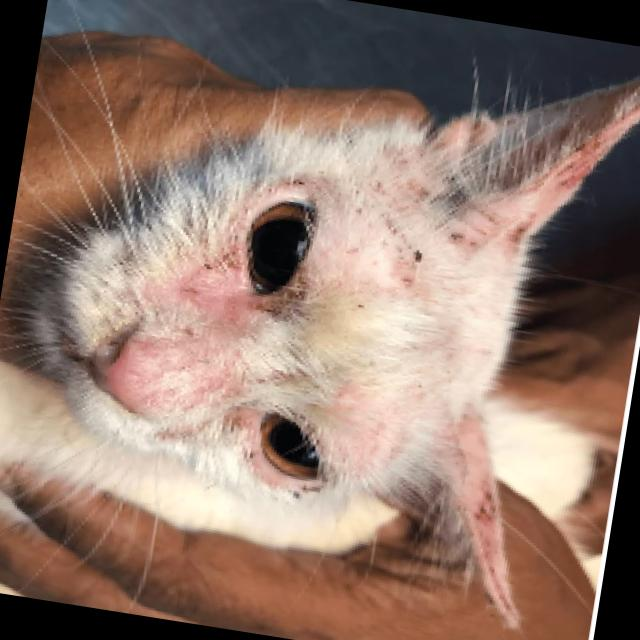Mange: (543, 126, 612, 208), (462, 492, 498, 538), (442, 226, 484, 262), (394, 240, 426, 287), (196, 276, 236, 312), (501, 210, 534, 252), (290, 482, 334, 512), (351, 289, 378, 328), (444, 224, 478, 254), (405, 182, 433, 212)
